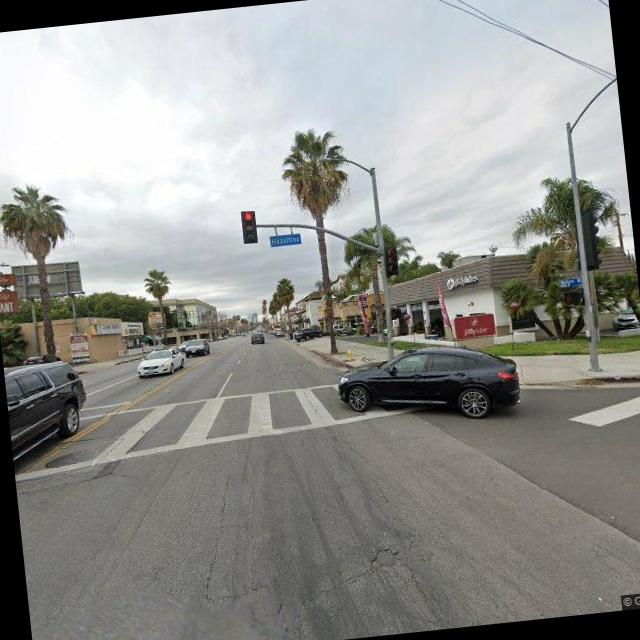crack: (188, 470, 245, 603)
pothole: (362, 540, 403, 570)
